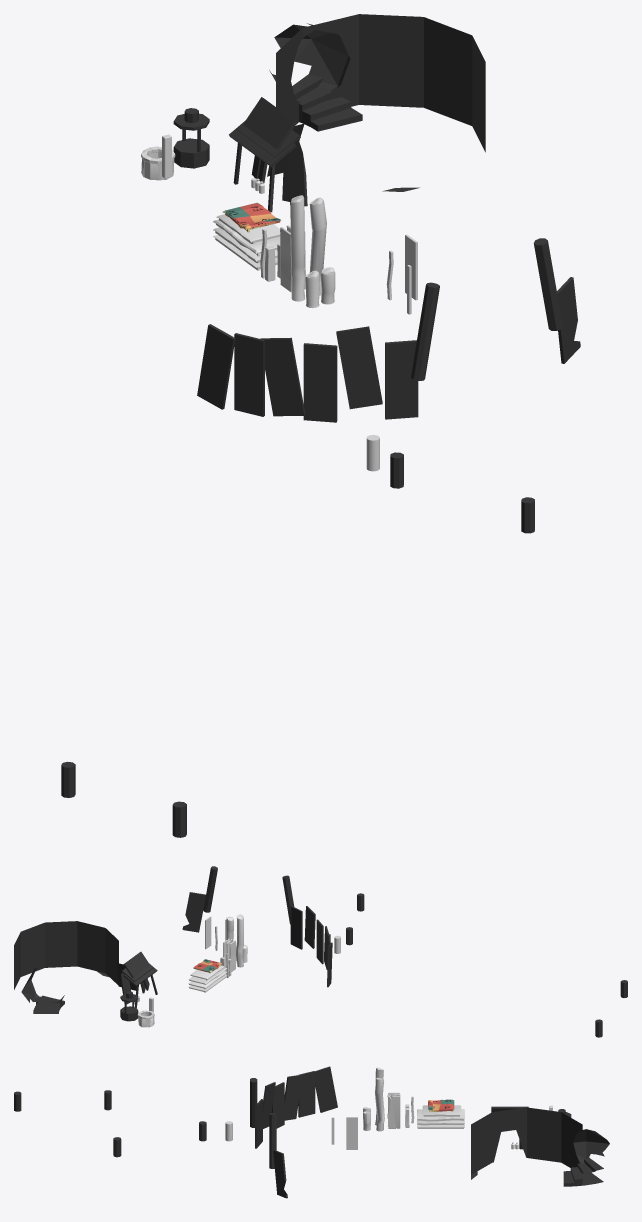
The model's file is AllWitchAssets.FBX.
3 renders of one model, top to bottom at view 1: azimuth 30°, elevation 25°; view 2: azimuth 150°, elevation 25°; view 3: azimuth 270°, elevation 25°, orthographic. The views are drawn at different scales.
Visible parts, largest first — view 1: InnerHut, BoxBrush15, BoxBrush16, RootEntree, BoxBrush17, BoxBrush14, BoxBrush18, Stairs, BoxBrush19, Roof3, Pole_Tall_v1, CylinderBrush18 (+3 smaller); view 2: InnerHut, BoxBrush20, BoxBrush14, Stairs, Roof3, BoxBrush15, Pole_Tall_v1, CylinderBrush19, BoxBrush16, CylinderBrush18, RootEntree, Well; view 3: InnerHut, RootEntree, BoxBrush19, Stairs, BoxBrush18, BoxBrush17, BoxBrush20, BoxBrush16, Pole_Tall_v2, Plank_V3, BoxBrush15, CylinderBrush19 (+7 smaller).
Boxes of the visible parts, x1,y1,x2,y2 form: InnerHut: [276, 14, 485, 191]; BoxBrush15: [336, 326, 382, 409]; BoxBrush16: [303, 343, 337, 422]; RootEntree: [269, 23, 350, 101]; BoxBrush17: [260, 337, 305, 416]; BoxBrush14: [385, 340, 418, 419]; BoxBrush18: [234, 333, 264, 416]; Stairs: [292, 74, 362, 131]; BoxBrush19: [197, 324, 235, 409]; Roof3: [243, 97, 296, 149]; Pole_Tall_v1: [290, 195, 305, 301]; CylinderBrush18: [411, 282, 439, 380]; InnerHut: [14, 921, 118, 989]; BoxBrush20: [182, 892, 205, 932]; BoxBrush14: [290, 906, 302, 949]; Stairs: [33, 995, 64, 1013]; Roof3: [123, 951, 150, 977]; BoxBrush15: [304, 906, 315, 948]; Pole_Tall_v1: [236, 914, 243, 967]; CylinderBrush19: [203, 866, 217, 912]; BoxBrush16: [316, 919, 323, 964]; CylinderBrush18: [282, 875, 294, 924]; RootEntree: [21, 968, 64, 1002]; Well: [137, 1010, 154, 1027]; InnerHut: [471, 1107, 582, 1179]; RootEntree: [573, 1129, 609, 1173]; BoxBrush19: [315, 1066, 337, 1112]; Stairs: [563, 1158, 603, 1186]; BoxBrush18: [298, 1071, 315, 1117]; BoxBrush17: [284, 1075, 302, 1120]; BoxBrush20: [273, 1150, 287, 1198]; BoxBrush16: [271, 1082, 284, 1128]; Pole_Tall_v2: [375, 1077, 384, 1131]; Plank_V3: [388, 1096, 400, 1128]; BoxBrush15: [263, 1082, 275, 1128]; CylinderBrush19: [269, 1113, 276, 1168].
Size of the model in its own units: 2138 by 792 by 2599.
